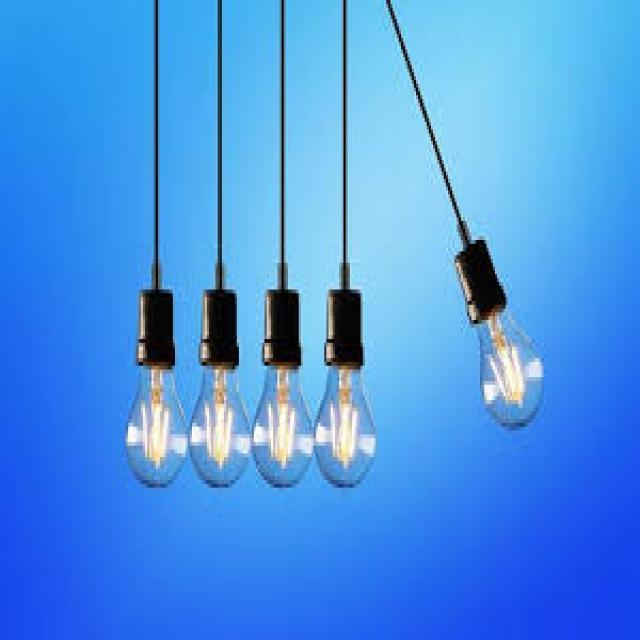light_bulb: (444, 199, 552, 441), (243, 252, 321, 512), (306, 248, 382, 508), (116, 255, 194, 501), (185, 254, 255, 498)
